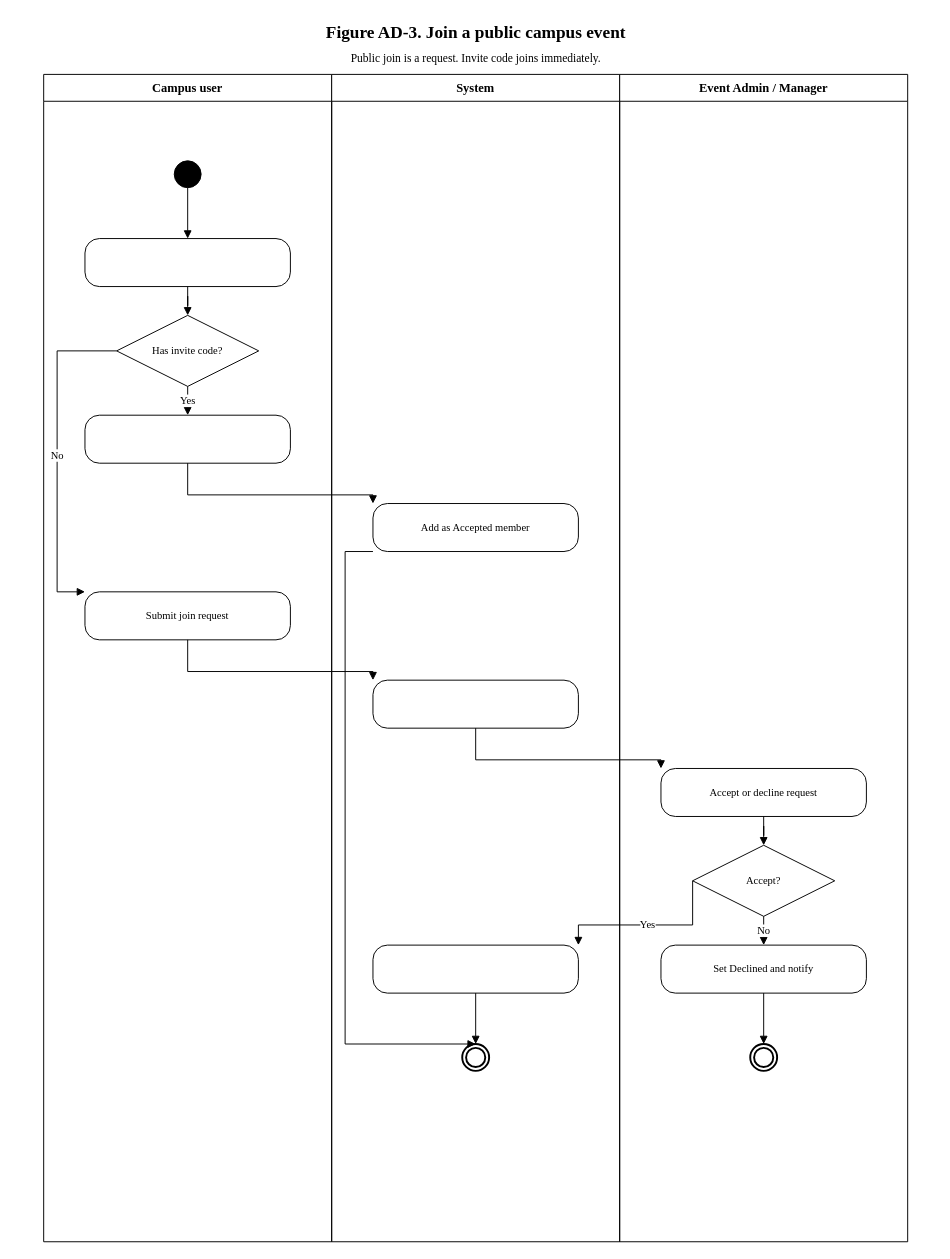
This 950x1259 diagram has some shape labels left out. Here are the shapes that lost their labels. From the top down, the centre of each, then its label:
At [187,262]: "Open campus event".
At [187,438]: "Enter invitation code".
At [475,703]: "Store InviteStatus = Requested".
At [475,968]: "Set Accepted and notify".
